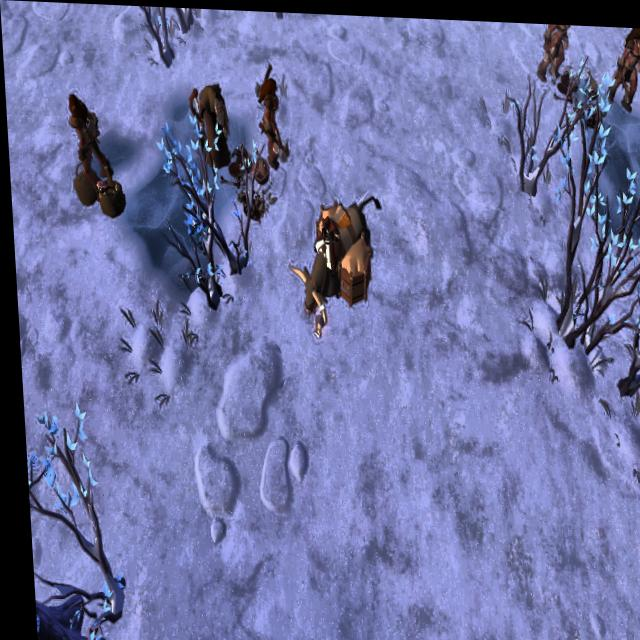enemy_factionKeeper: (62, 86, 111, 181), (188, 73, 228, 170), (252, 63, 288, 166), (604, 21, 640, 105), (535, 19, 569, 81)
